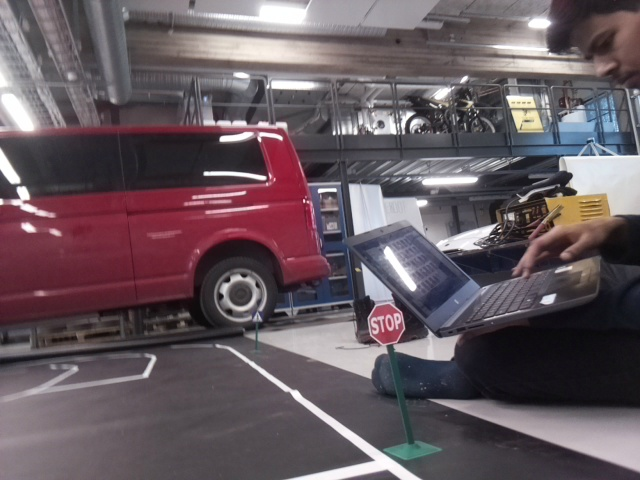Crosswalk: (251, 310, 263, 323)
Stop: (365, 303, 403, 343)
